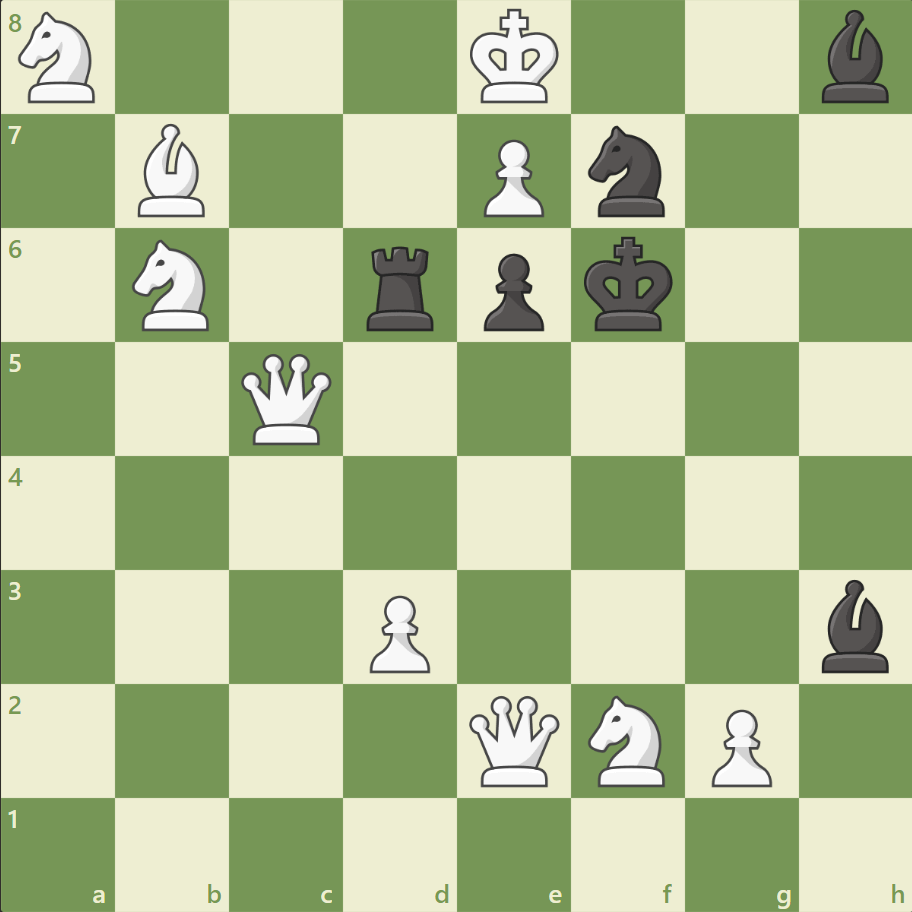B: (131, 120, 215, 222)
K: (465, 4, 565, 112)
N: (124, 234, 222, 337), (11, 7, 108, 110), (579, 688, 676, 791)
P: (474, 132, 549, 223), (701, 700, 776, 791), (361, 586, 435, 677)
Q: (237, 349, 336, 449), (464, 690, 563, 789)
b: (812, 6, 896, 109), (812, 574, 896, 676)
k: (579, 231, 679, 339)
n: (579, 121, 676, 223)
p: (474, 246, 549, 337)
r: (360, 239, 442, 336)
